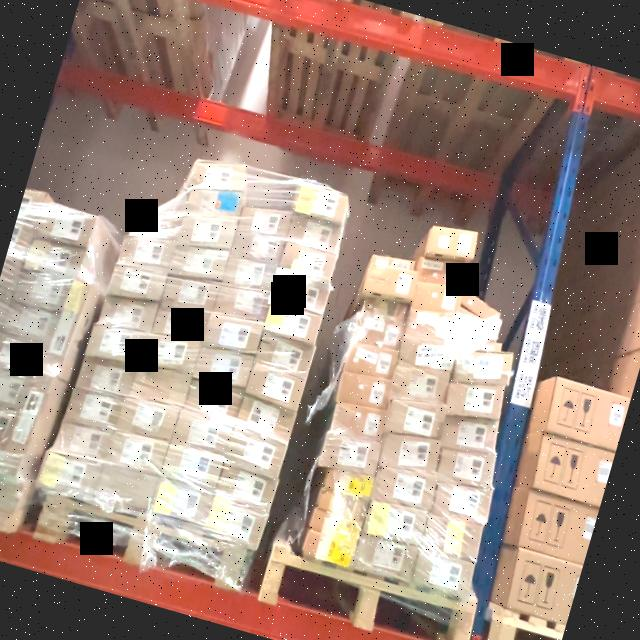box: (34, 450, 98, 503), (355, 530, 417, 582), (227, 428, 286, 478), (214, 466, 278, 512), (206, 498, 266, 546), (413, 551, 472, 599), (119, 398, 178, 444), (424, 515, 483, 561), (256, 332, 316, 377), (364, 502, 427, 544), (320, 433, 380, 477), (374, 470, 435, 513), (104, 434, 166, 476), (94, 468, 156, 510), (172, 413, 231, 455), (236, 400, 296, 441), (154, 480, 211, 522), (163, 446, 221, 487), (246, 366, 304, 407), (66, 388, 120, 431), (132, 364, 190, 404), (195, 347, 251, 388), (206, 316, 260, 358), (293, 180, 347, 222), (386, 402, 444, 441), (392, 366, 448, 406), (54, 418, 108, 459), (274, 275, 328, 316), (380, 437, 438, 475), (398, 336, 455, 374), (77, 358, 131, 398), (279, 242, 334, 281), (266, 305, 321, 344), (335, 373, 390, 412), (98, 295, 157, 331), (169, 245, 226, 282), (451, 350, 511, 385), (330, 403, 384, 441), (86, 324, 142, 360), (439, 453, 496, 488), (146, 334, 198, 372), (426, 224, 478, 262), (187, 381, 240, 418), (366, 262, 416, 301), (110, 266, 164, 302), (238, 202, 292, 238), (163, 276, 216, 312), (232, 228, 282, 266), (119, 236, 173, 271), (406, 310, 458, 346), (434, 487, 492, 519), (154, 306, 208, 340), (447, 384, 502, 417), (288, 213, 337, 250), (178, 218, 234, 250), (344, 345, 395, 379), (303, 532, 354, 566), (223, 258, 273, 292), (441, 421, 497, 451), (191, 160, 245, 191), (217, 286, 267, 319), (316, 489, 366, 522), (310, 509, 360, 542), (351, 322, 400, 355), (184, 192, 241, 220), (414, 282, 460, 316), (324, 469, 374, 498), (418, 258, 465, 288), (361, 300, 404, 329), (280, 264, 284, 270)
